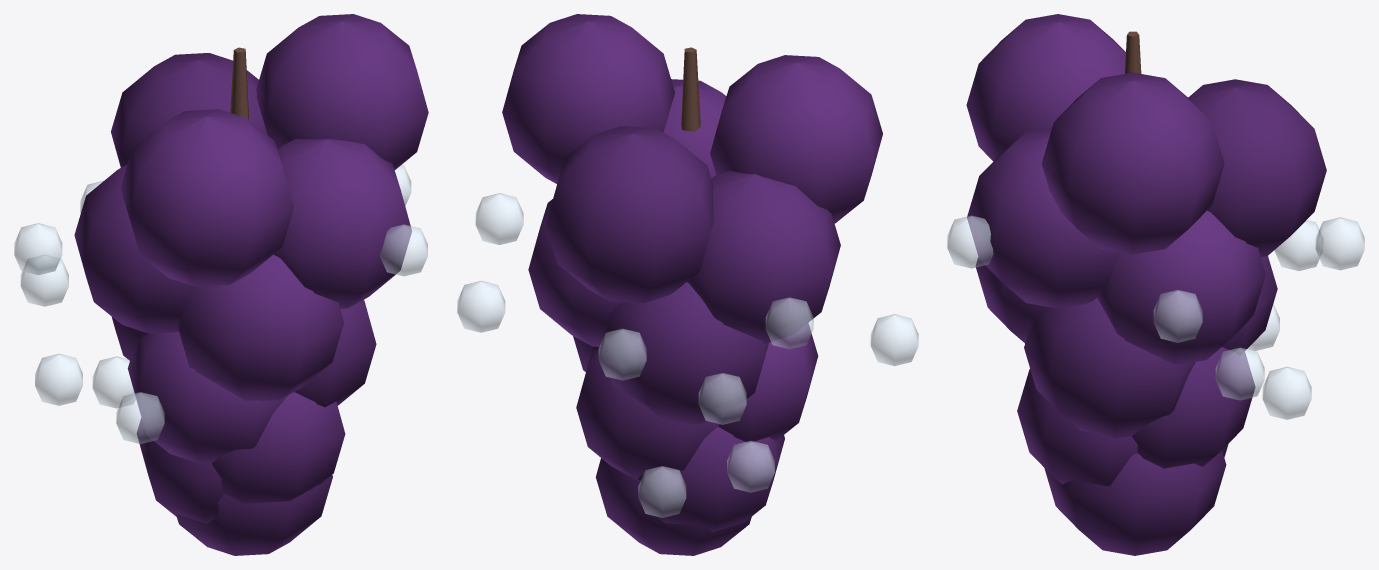
The model's file is fruit-grape-wet.gltf.
3 views of the same model, side by side, from view 1: azimuth 30°, elevation 25°; view 2: azimuth 150°, elevation 25°; view 3: azimuth 270°, elevation 25° (orthographic). The views are drawn at different scales.
Bounding box in the file's own units: 0.3193 × 0.4167 × 0.3067.
